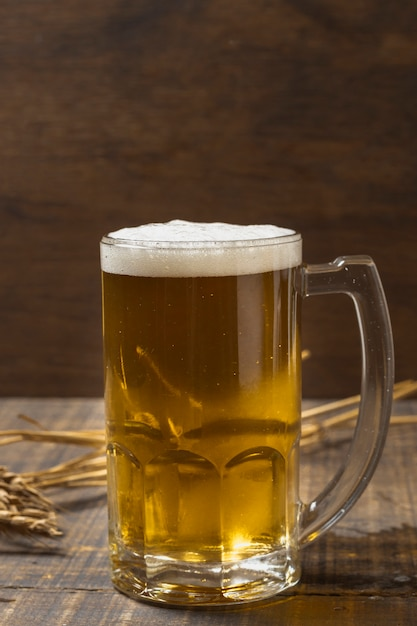alcohol: (94, 214, 397, 610)
